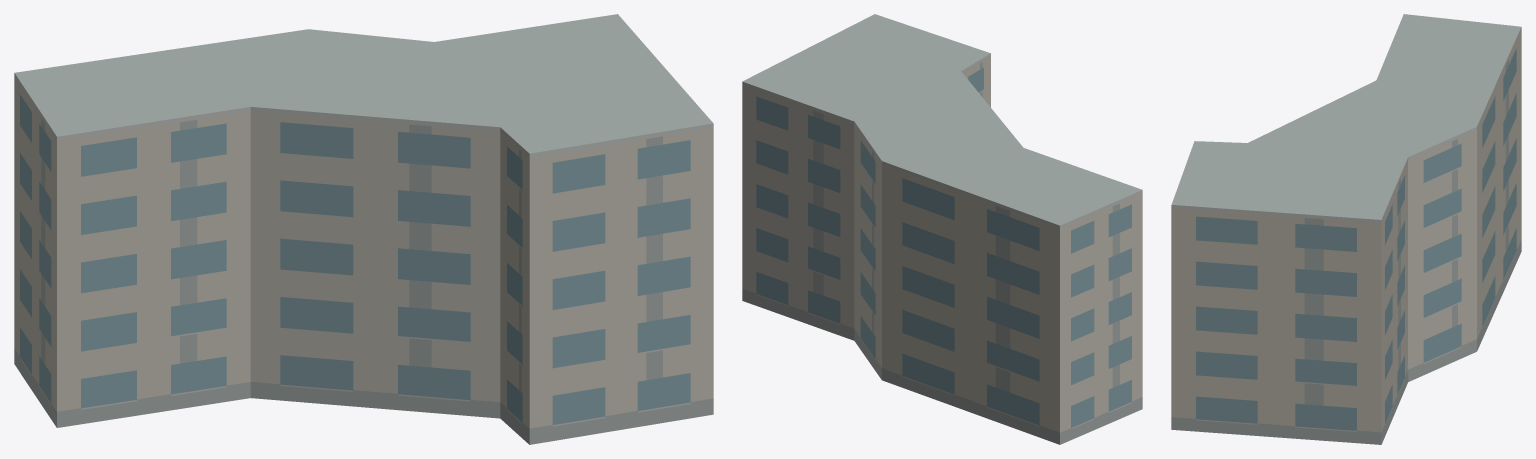
The model's file is residential-7e01f996-dbfe-43e4-b3f5-801faef30553.glb.
3 views of the same model, side by side, from view 1: azimuth 30°, elevation 25°; view 2: azimuth 150°, elevation 25°; view 3: azimuth 270°, elevation 25° (orthographic). The views are drawn at different scales.
Parts seen in each view (by area): view 1: residential-7e01f996-dbfe-43e4-b3f5-801faef30553.tmp; view 2: residential-7e01f996-dbfe-43e4-b3f5-801faef30553.tmp; view 3: residential-7e01f996-dbfe-43e4-b3f5-801faef30553.tmp.
Part boxes in pixels (bbox=[...]): residential-7e01f996-dbfe-43e4-b3f5-801faef30553.tmp: bbox=[14, 14, 713, 444]; residential-7e01f996-dbfe-43e4-b3f5-801faef30553.tmp: bbox=[742, 14, 1142, 444]; residential-7e01f996-dbfe-43e4-b3f5-801faef30553.tmp: bbox=[1171, 14, 1521, 444].
Size of the model in its own units: 29.95 by 15.25 by 21.52.
